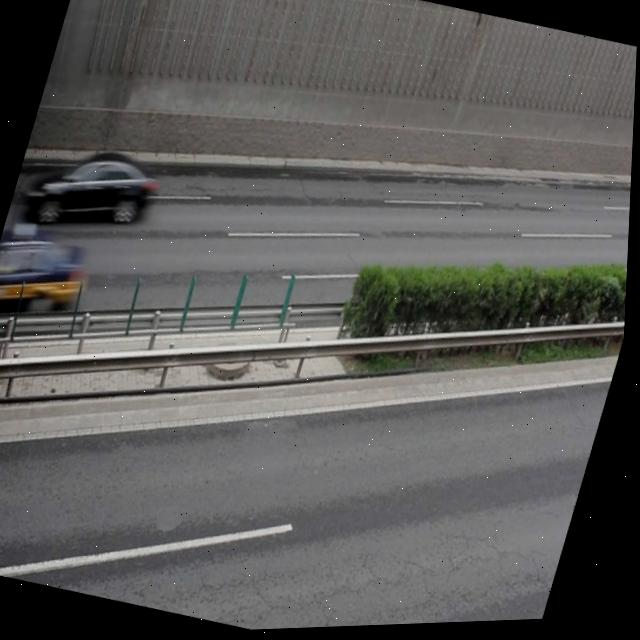car: (25, 132, 168, 244), (0, 220, 100, 327)
